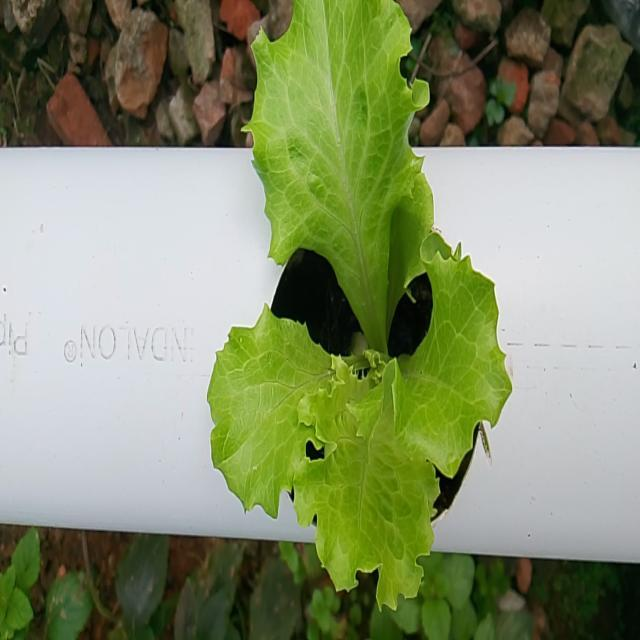Baby: (208, 3, 504, 606)
